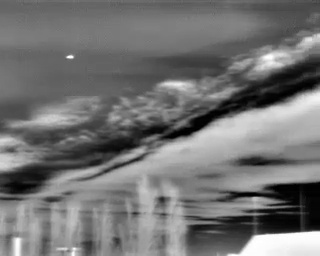BIRD: (64, 52, 77, 63)
